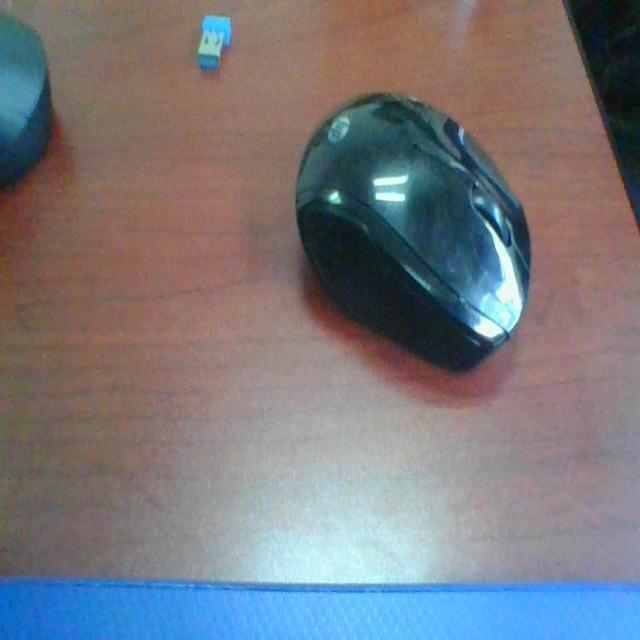Mouse: (282, 68, 552, 370)
